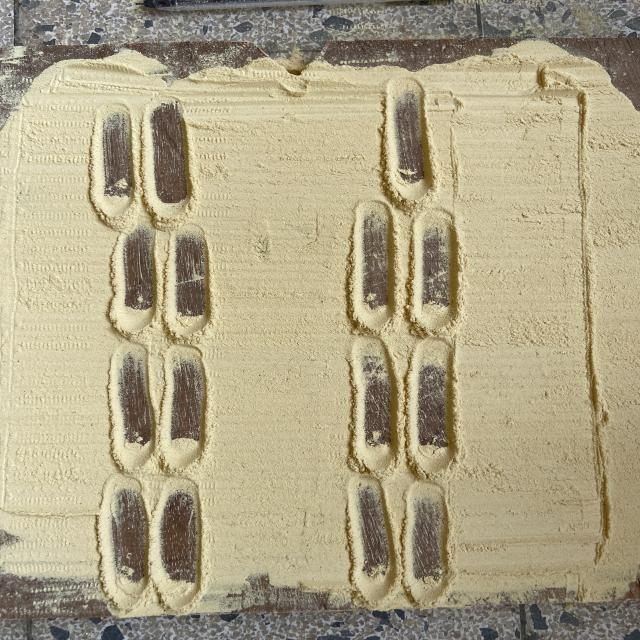double: (344, 334, 462, 476), (345, 206, 465, 334), (95, 476, 207, 608), (344, 478, 456, 606), (86, 95, 197, 224), (106, 342, 211, 477), (105, 226, 215, 338)
single: (378, 76, 437, 205)
